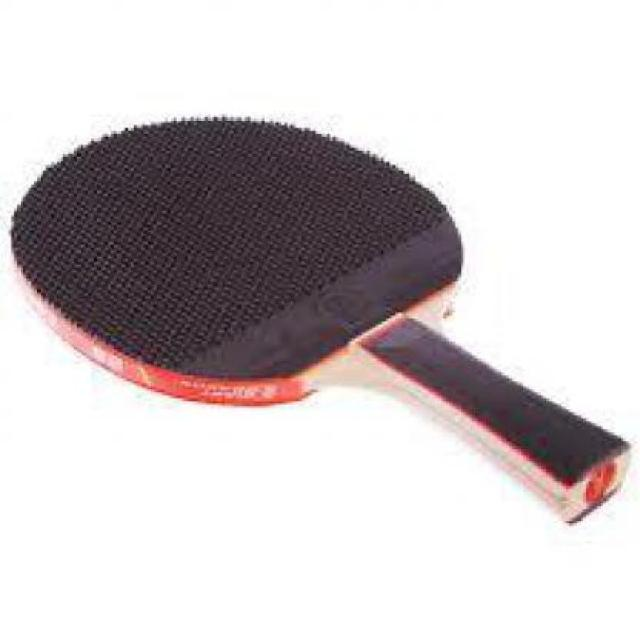table_tennis_racket: (11, 117, 629, 525)
